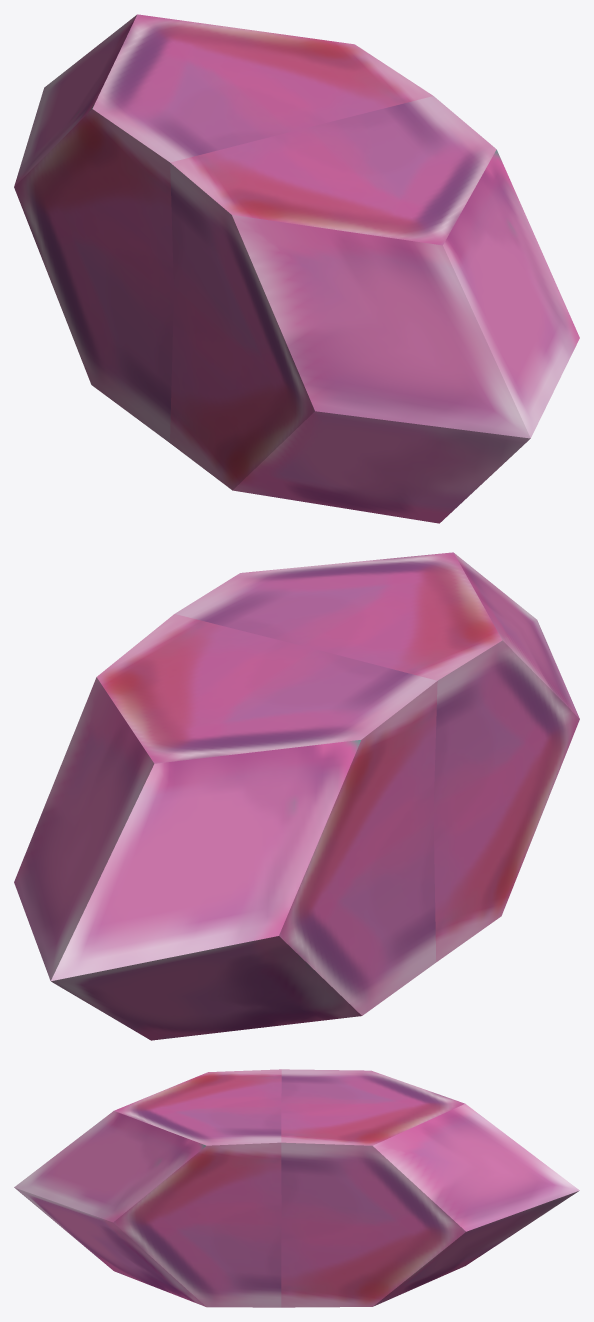
Rendered from SM_EnemyProjectile.fbx.
3 views of the same model, one above another, from view 1: azimuth 30°, elevation 25°; view 2: azimuth 150°, elevation 25°; view 3: azimuth 270°, elevation 25° (orthographic). The views are drawn at different scales.
Parts seen in each view (by area): view 1: bullet; view 2: bullet; view 3: bullet.
Part boxes in pixels (left/top/right/bottom): bullet: left=14, top=14, right=579, bottom=523; bullet: left=14, top=552, right=579, bottom=1040; bullet: left=14, top=1069, right=579, bottom=1307.
Size of the model in its own units: 10.47 by 10.74 by 32.83.
